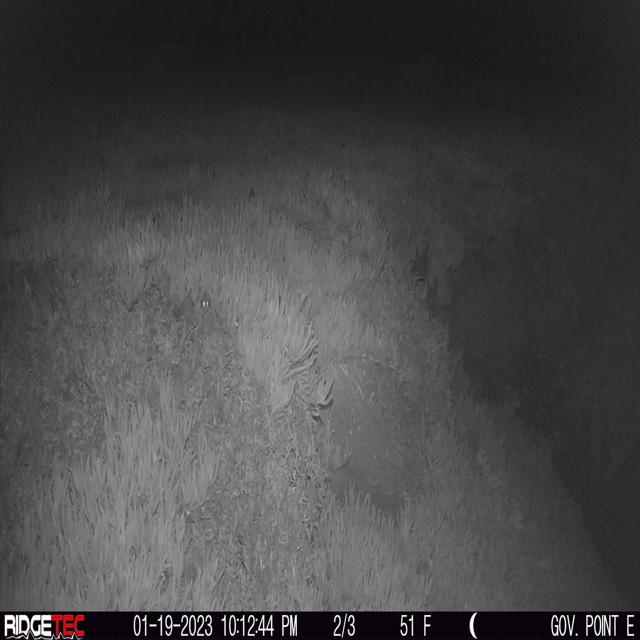rodent: (196, 288, 212, 319)
